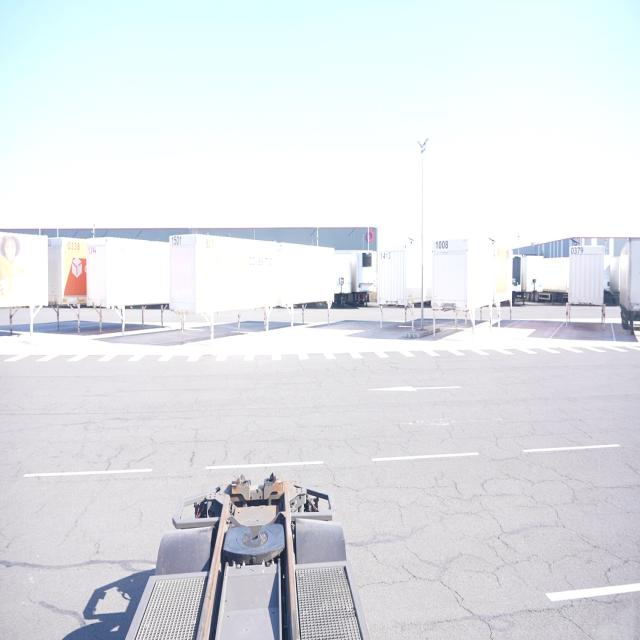Code: (433, 236, 451, 257), (168, 231, 185, 250), (65, 237, 82, 255), (568, 243, 584, 259)
